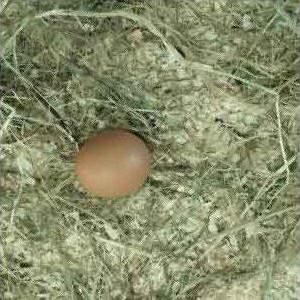egg: (74, 128, 151, 198)
